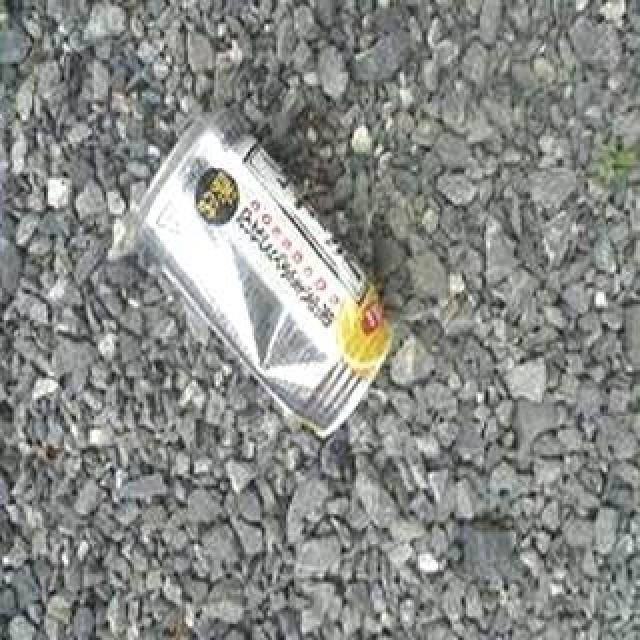Can: (142, 114, 400, 436)
